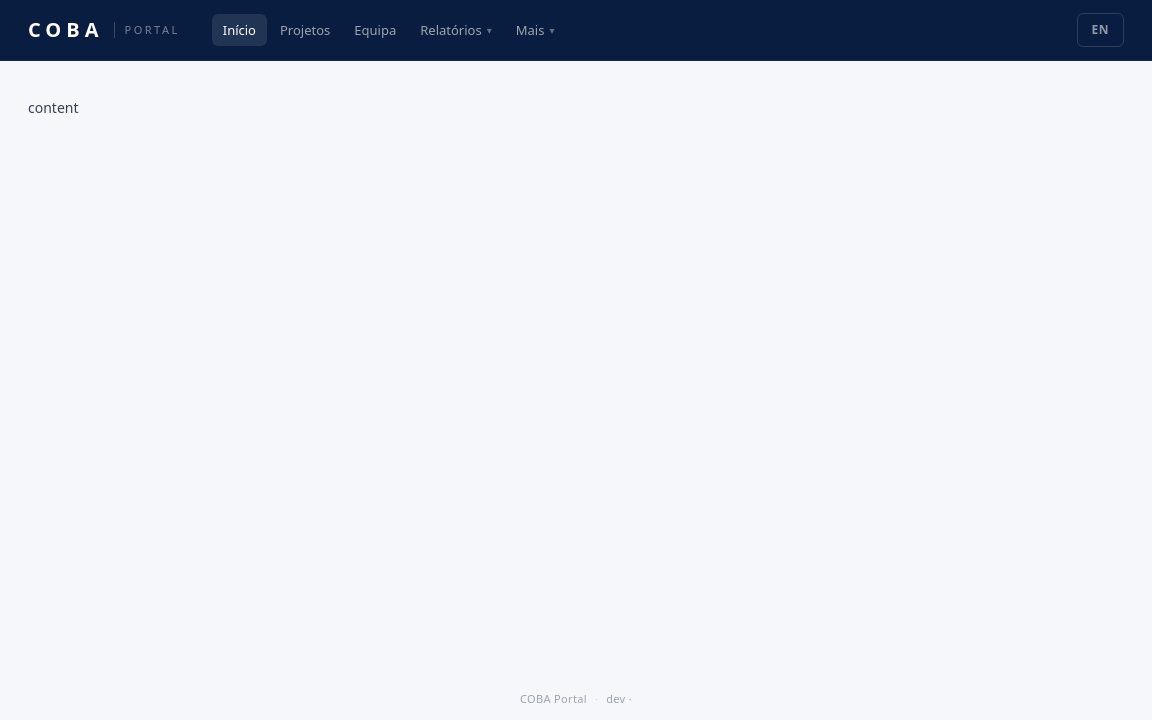
Scenario: Layout › clicking the language toggle switches to English nav labels
The width and height of the screenshot is (1152, 720).
Click the button "EN" at coordinates (1100, 30), box [1076, 13, 1124, 47]
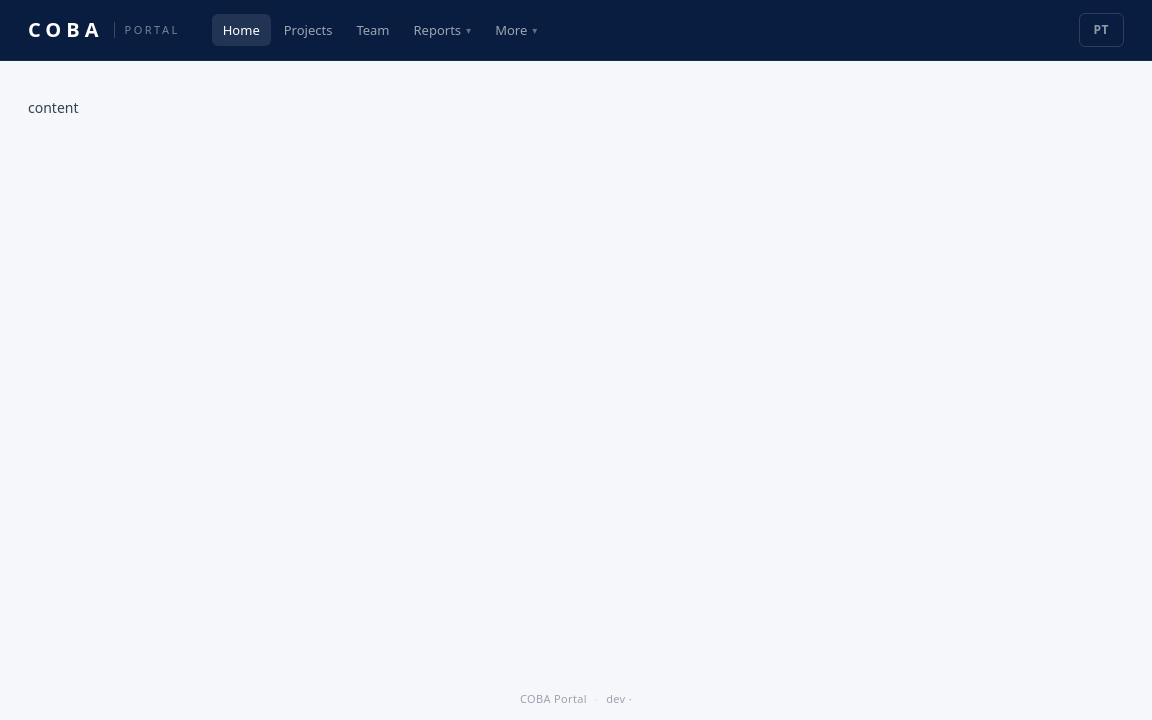
Expected: the button "Projects" is shown, [273, 14, 343, 46]
Expected: the button "PT" is shown, [1078, 13, 1124, 47]
